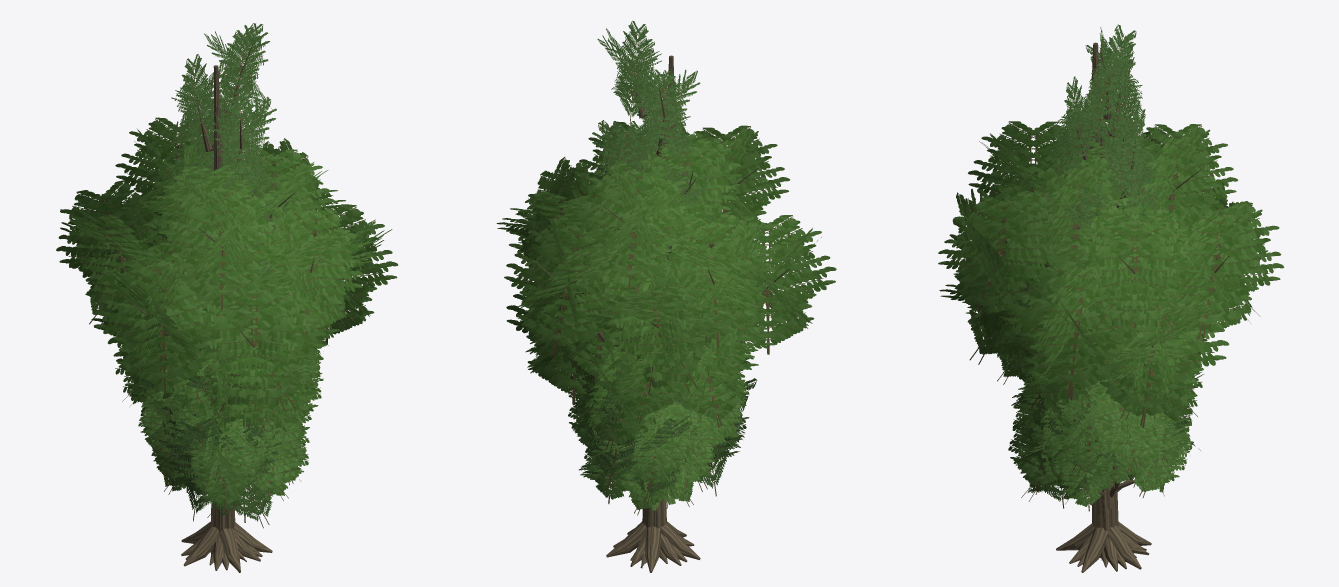
Rendered from aurel-vegetation.glb.
The picture shows the model from 3 angles, left to right: view 1: azimuth 30°, elevation 25°; view 2: azimuth 150°, elevation 25°; view 3: azimuth 270°, elevation 25°; orthographic projection. The views are drawn at different scales.
Parts seen in each view (by area): view 1: broadleaf-mature_LOD0_LEAVES, columnar-mature_LOD0_LEAVES, orchard-row-end_LOD0_LEAVES, broadleaf-young_LOD0_LEAVES, orchard-open_LOD0_LEAVES, columnar-mature_LOD0_BARK, columnar-young_LOD0_LEAVES, broadleaf-mature_LOD0_BARK; view 2: broadleaf-mature_LOD0_LEAVES, columnar-mature_LOD0_LEAVES, broadleaf-young_LOD0_LEAVES, orchard-row-end_LOD0_LEAVES, orchard-open_LOD0_LEAVES, columnar-mature_LOD0_BARK, columnar-young_LOD0_LEAVES, broadleaf-mature_LOD0_BARK, columnar-mature_LOD1_BARK; view 3: broadleaf-mature_LOD0_LEAVES, columnar-mature_LOD0_LEAVES, orchard-row-end_LOD0_LEAVES, broadleaf-young_LOD0_LEAVES, orchard-open_LOD0_LEAVES, columnar-mature_LOD0_BARK, columnar-young_LOD0_LEAVES, broadleaf-mature_LOD0_BARK.
Part boxes in pixels (x1=…): broadleaf-mature_LOD0_LEAVES: x1=56, y1=117, x2=398, y2=412; columnar-mature_LOD0_LEAVES: x1=154, y1=23, x2=298, y2=521; orchard-row-end_LOD0_LEAVES: x1=138, y1=362, x2=321, y2=510; broadleaf-young_LOD0_LEAVES: x1=113, y1=246, x2=337, y2=445; orchard-open_LOD0_LEAVES: x1=151, y1=408, x2=305, y2=500; columnar-mature_LOD0_BARK: x1=181, y1=42, x2=272, y2=572; columnar-young_LOD0_LEAVES: x1=149, y1=118, x2=281, y2=528; broadleaf-mature_LOD0_BARK: x1=106, y1=143, x2=357, y2=570; broadleaf-mature_LOD0_LEAVES: x1=496, y1=121, x2=836, y2=404; columnar-mature_LOD0_LEAVES: x1=573, y1=20, x2=757, y2=496; broadleaf-young_LOD0_LEAVES: x1=540, y1=235, x2=765, y2=451; orchard-row-end_LOD0_LEAVES: x1=568, y1=370, x2=748, y2=503; orchard-open_LOD0_LEAVES: x1=568, y1=392, x2=718, y2=515; columnar-mature_LOD0_BARK: x1=606, y1=35, x2=700, y2=572; columnar-young_LOD0_LEAVES: x1=604, y1=121, x2=710, y2=504; broadleaf-mature_LOD0_BARK: x1=533, y1=168, x2=790, y2=566; columnar-mature_LOD1_BARK: x1=607, y1=56, x2=699, y2=572; broadleaf-mature_LOD0_LEAVES: x1=938, y1=112, x2=1284, y2=428; columnar-mature_LOD0_LEAVES: x1=1018, y1=24, x2=1203, y2=469; orchard-row-end_LOD0_LEAVES: x1=1008, y1=379, x2=1193, y2=497; broadleaf-young_LOD0_LEAVES: x1=993, y1=265, x2=1215, y2=435; orchard-open_LOD0_LEAVES: x1=1021, y1=409, x2=1179, y2=511; columnar-mature_LOD0_BARK: x1=1056, y1=42, x2=1151, y2=572; columnar-young_LOD0_LEAVES: x1=1021, y1=116, x2=1157, y2=508; broadleaf-mature_LOD0_BARK: x1=998, y1=155, x2=1228, y2=571.
Size of the model in its own units: 10.33 by 13.94 by 10.18.
Materials: 2 (2 with a texture image).
